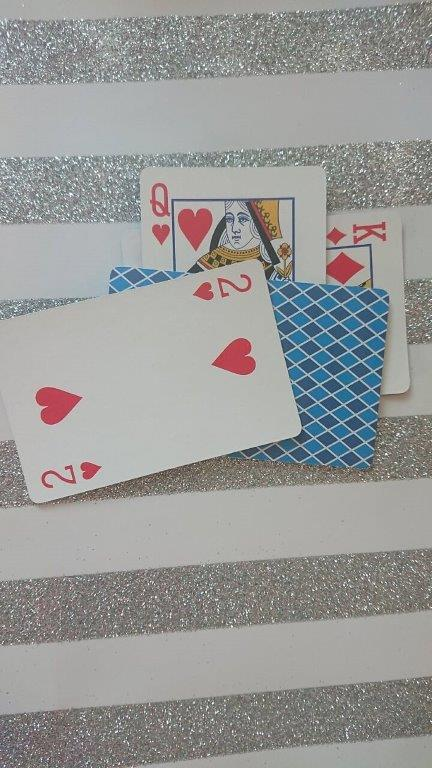BACK: (302, 282, 388, 467)
QH: (146, 173, 185, 256)
